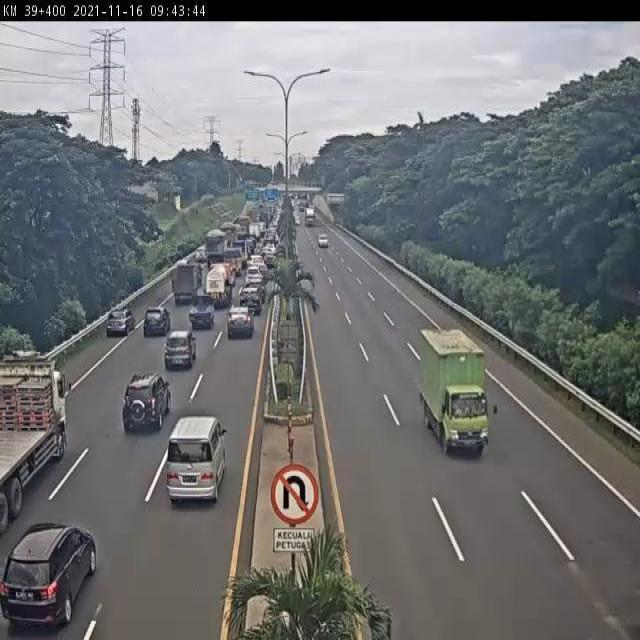car: (0, 514, 102, 640), (157, 408, 234, 516), (113, 373, 173, 443), (159, 328, 198, 379), (99, 300, 136, 341), (224, 298, 258, 342), (141, 301, 173, 343), (186, 292, 216, 335), (237, 289, 263, 319), (244, 275, 267, 304), (244, 265, 264, 288), (192, 245, 207, 267), (251, 253, 266, 272), (316, 233, 330, 251), (264, 251, 278, 268)
small truck: (411, 318, 494, 458), (222, 244, 246, 276)
truck-l-: (0, 352, 69, 540), (198, 232, 226, 276), (216, 219, 236, 248)
truck-m-: (164, 252, 203, 308), (204, 263, 235, 313)
